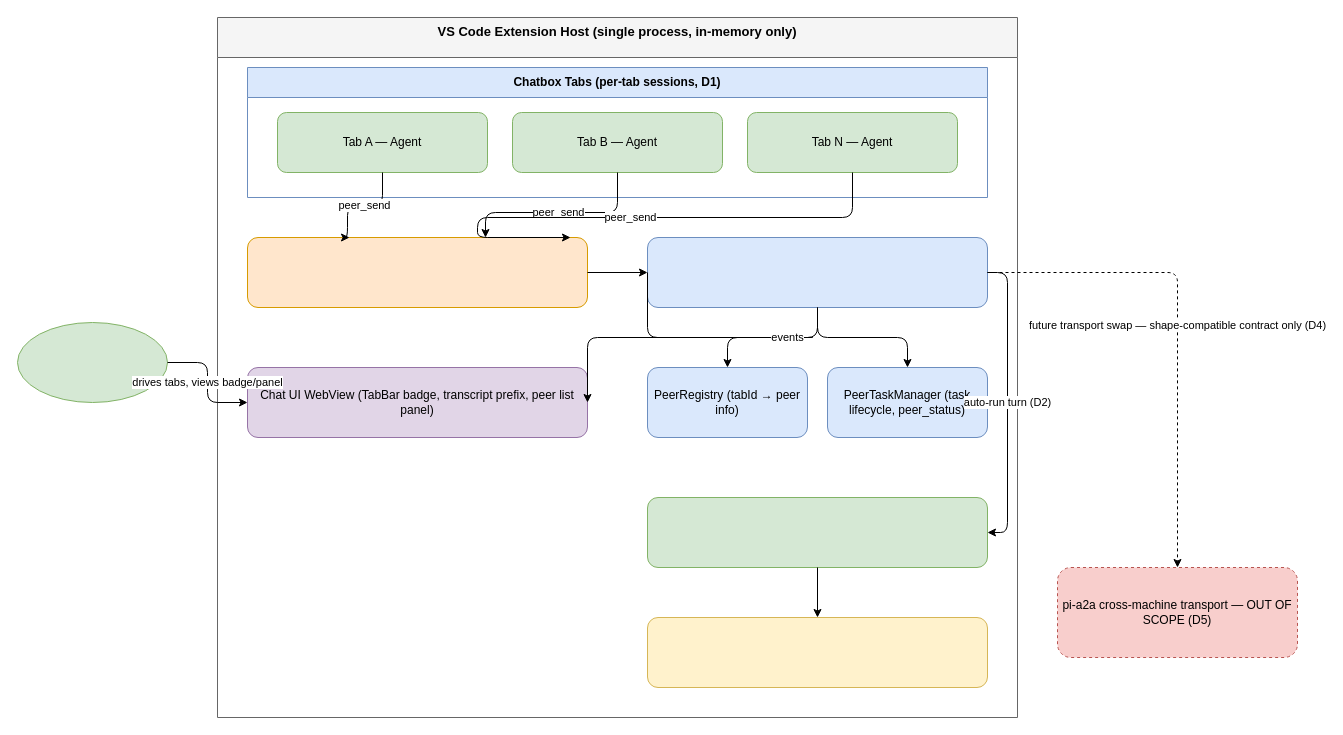
Some shapes in this 1343 by 735 pixel diagram are drawn without their labels. The centre of each missing label's shape, as x and y in pixels:
"Context Governance (budget gate → auto-chunk → intra-turn guard)" belongs at point (817, 652).
"Developer (user)" belongs at point (92, 362).
"PeerBus (in-process, EventEmitter-style)" belongs at point (817, 272).
"Session Host — key: workspaceRoot + tabId" belongs at point (817, 532).
"Session Tools: peer_list / peer_send / peer_status (SA4E-360 pattern)" belongs at point (417, 272).
